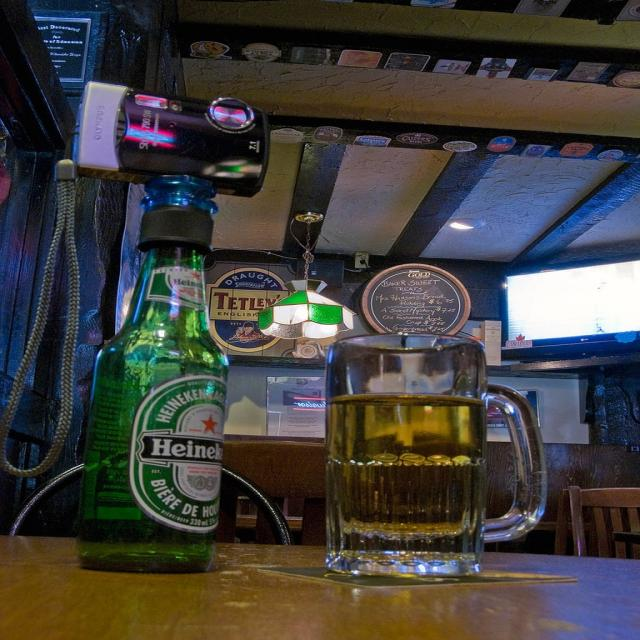heineken: (131, 378, 230, 533)
